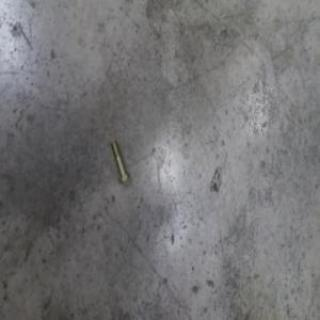Bolttrack_idkeyframe: (110, 140, 129, 186)
